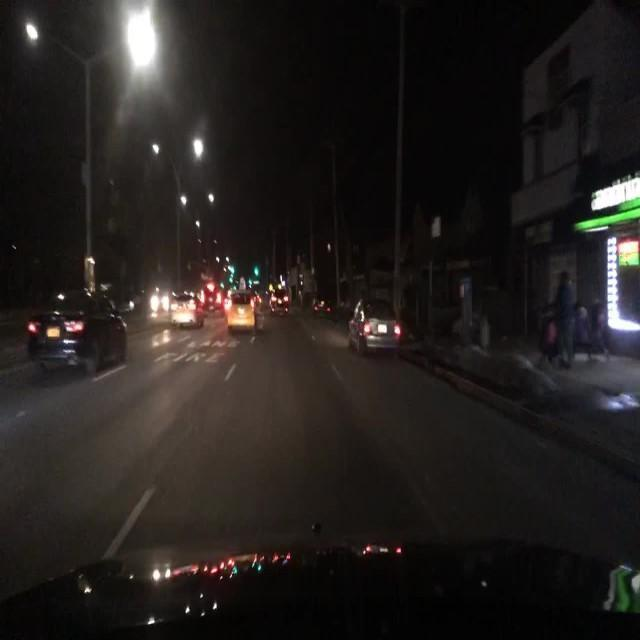normal: (2, 277, 139, 395), (337, 286, 413, 370), (212, 279, 280, 341)
